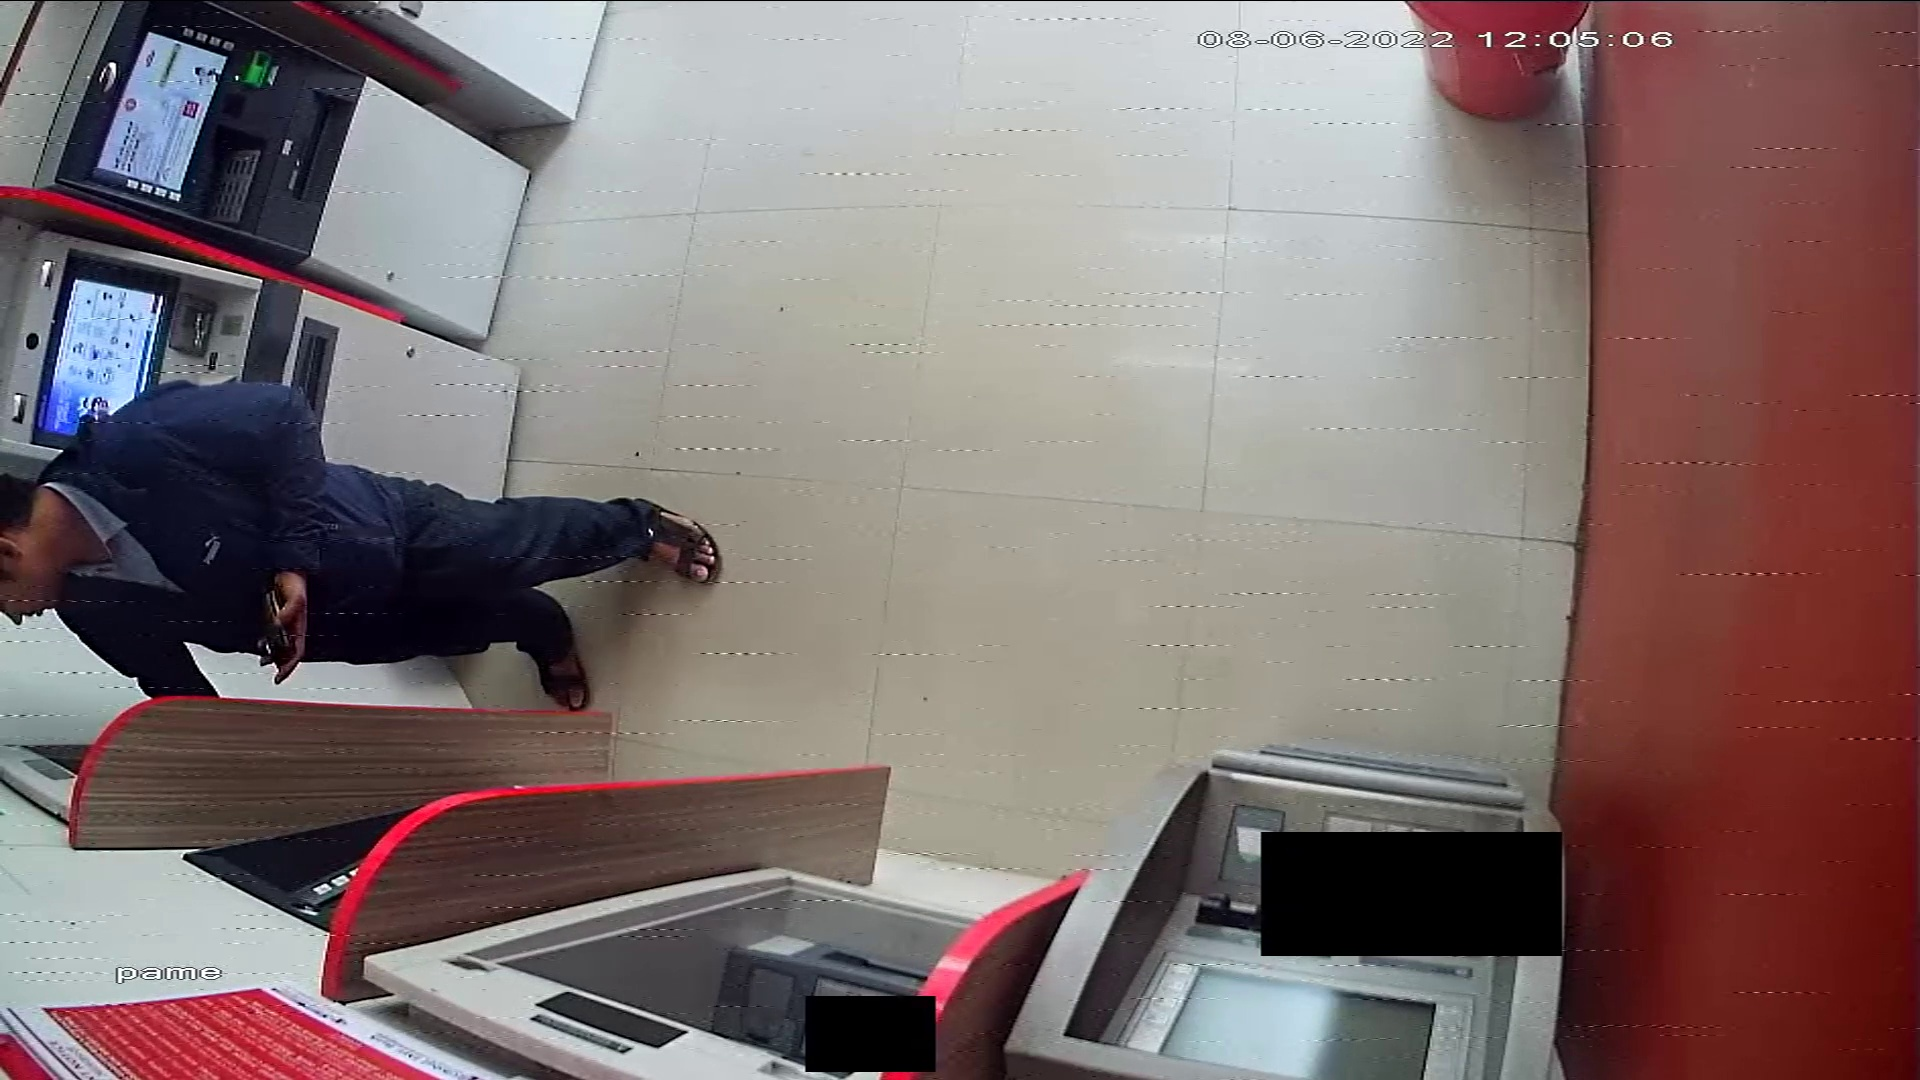person: (1, 382, 723, 709)
